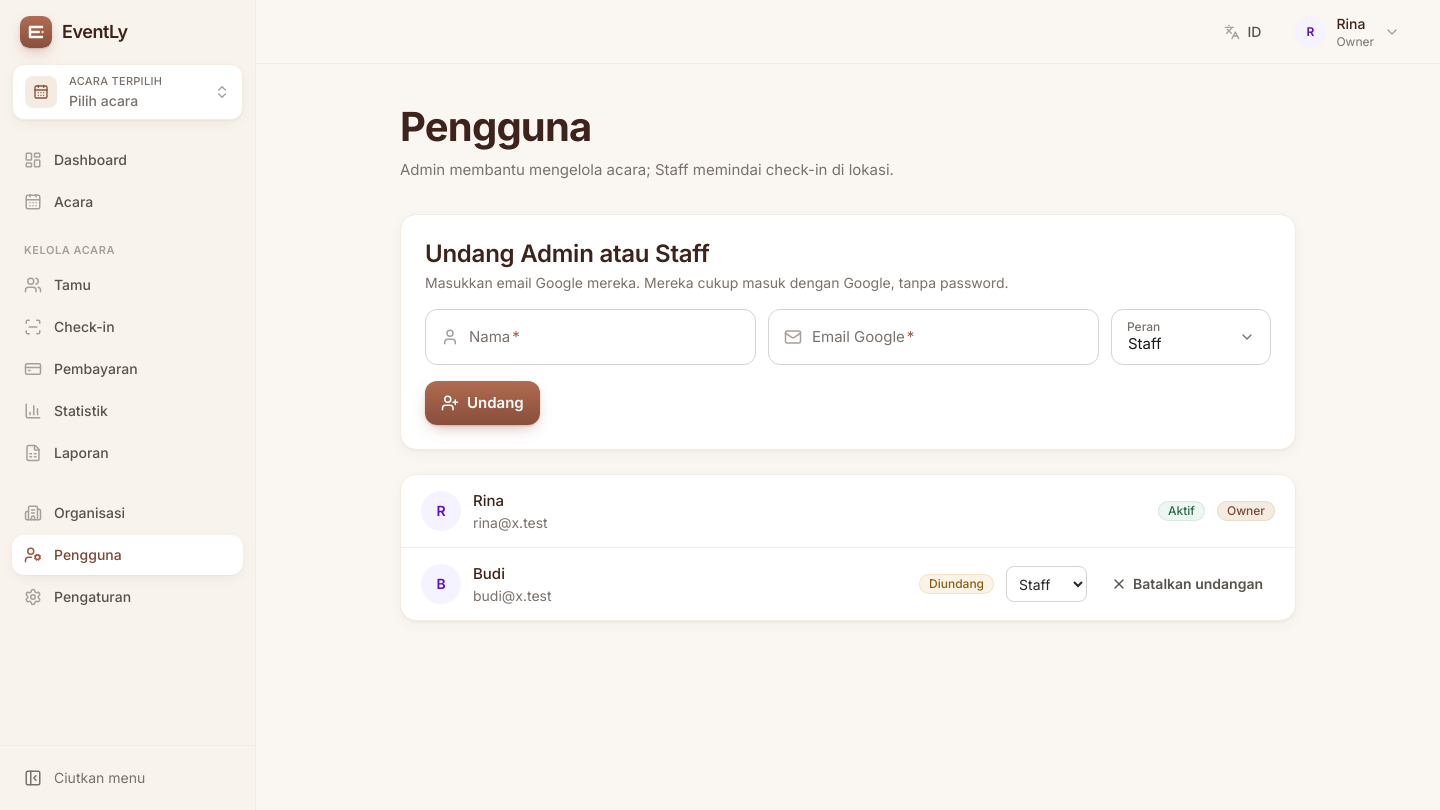
Test case: UsersPage › explains when the email is already registered
Type "Sari" into the field labelled "Nama" at (590, 337), box [425, 309, 756, 365]
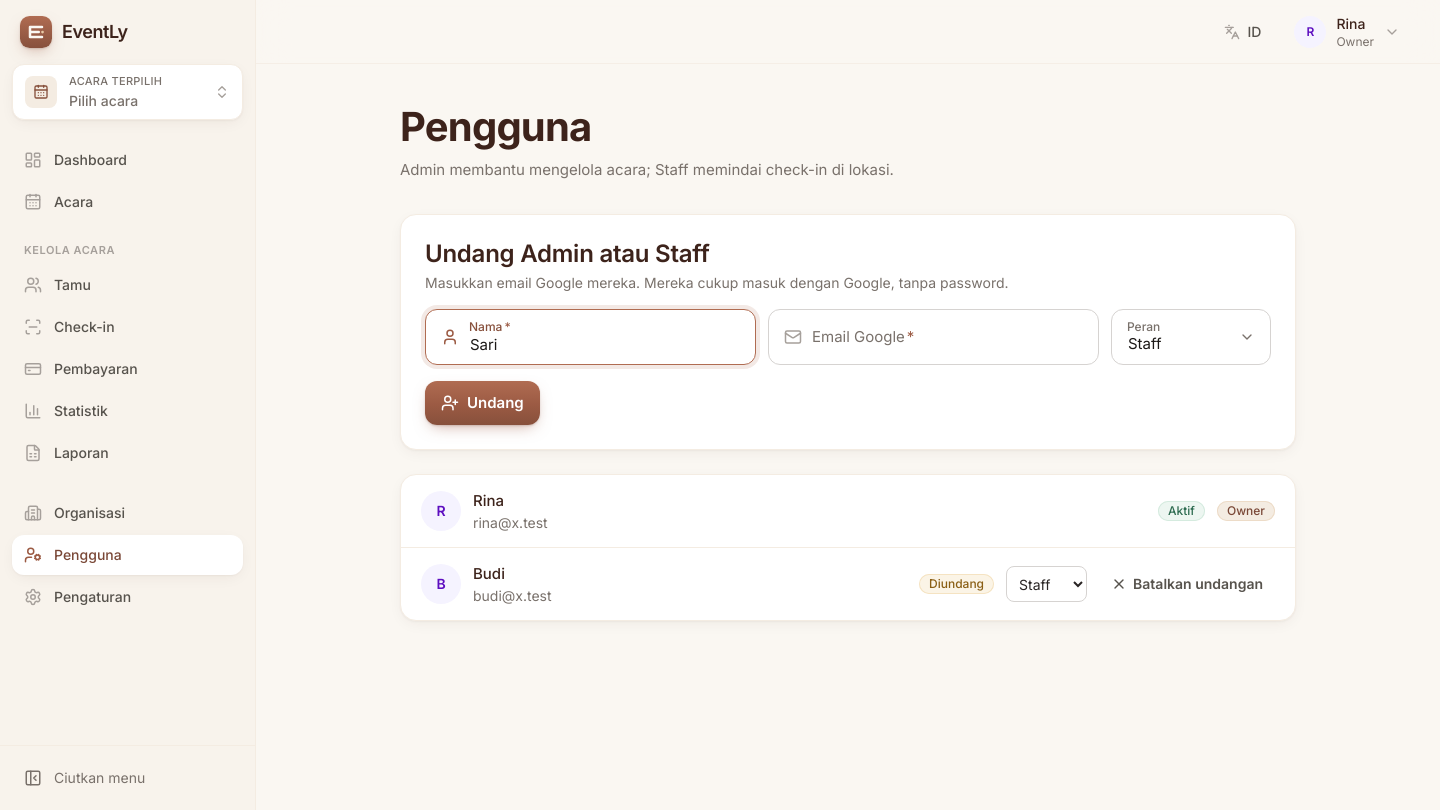
Type "taken@gmail.test" into the field labelled "Email Google" at (934, 337), box [768, 309, 1099, 365]
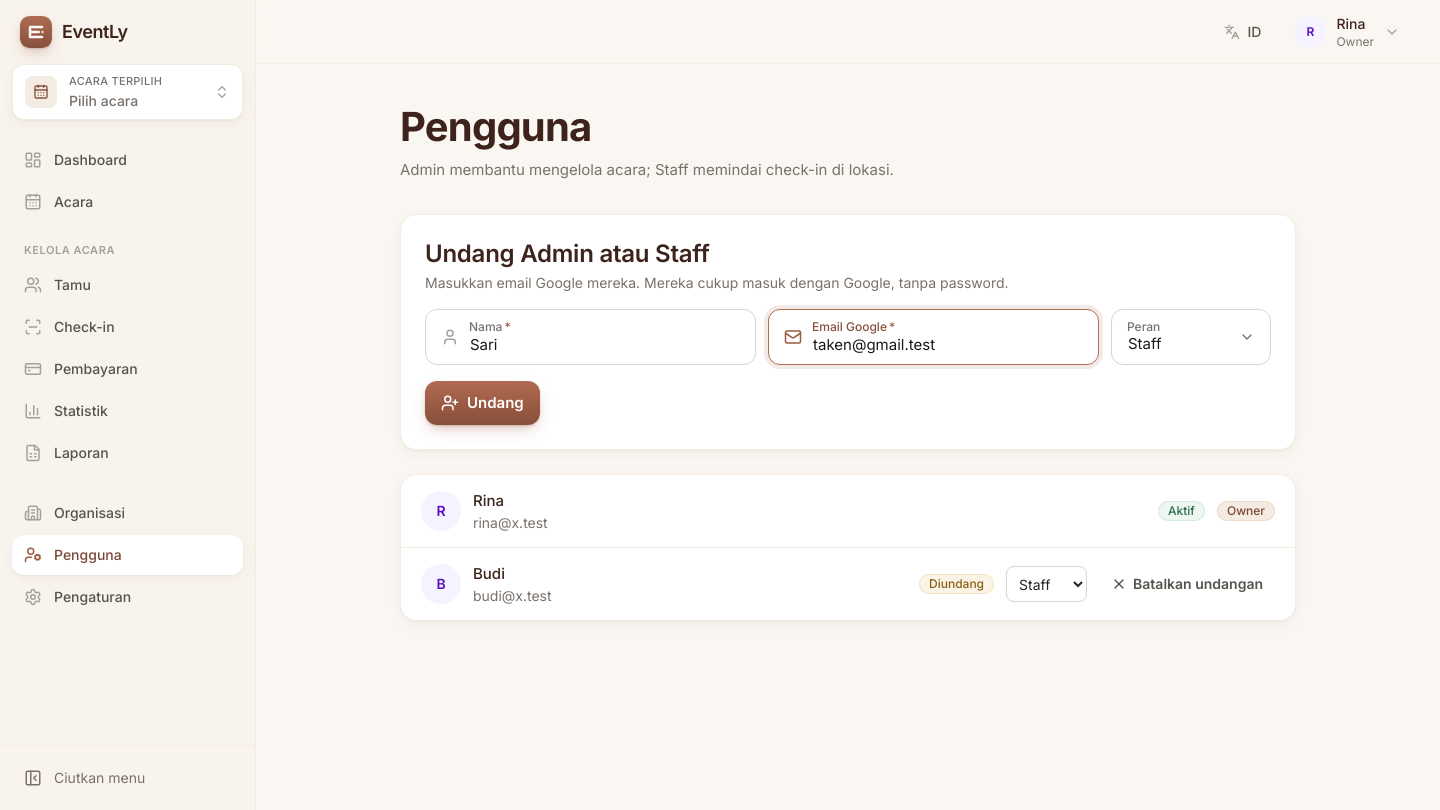
Click the button "Undang" at (482, 403), box [425, 381, 540, 425]
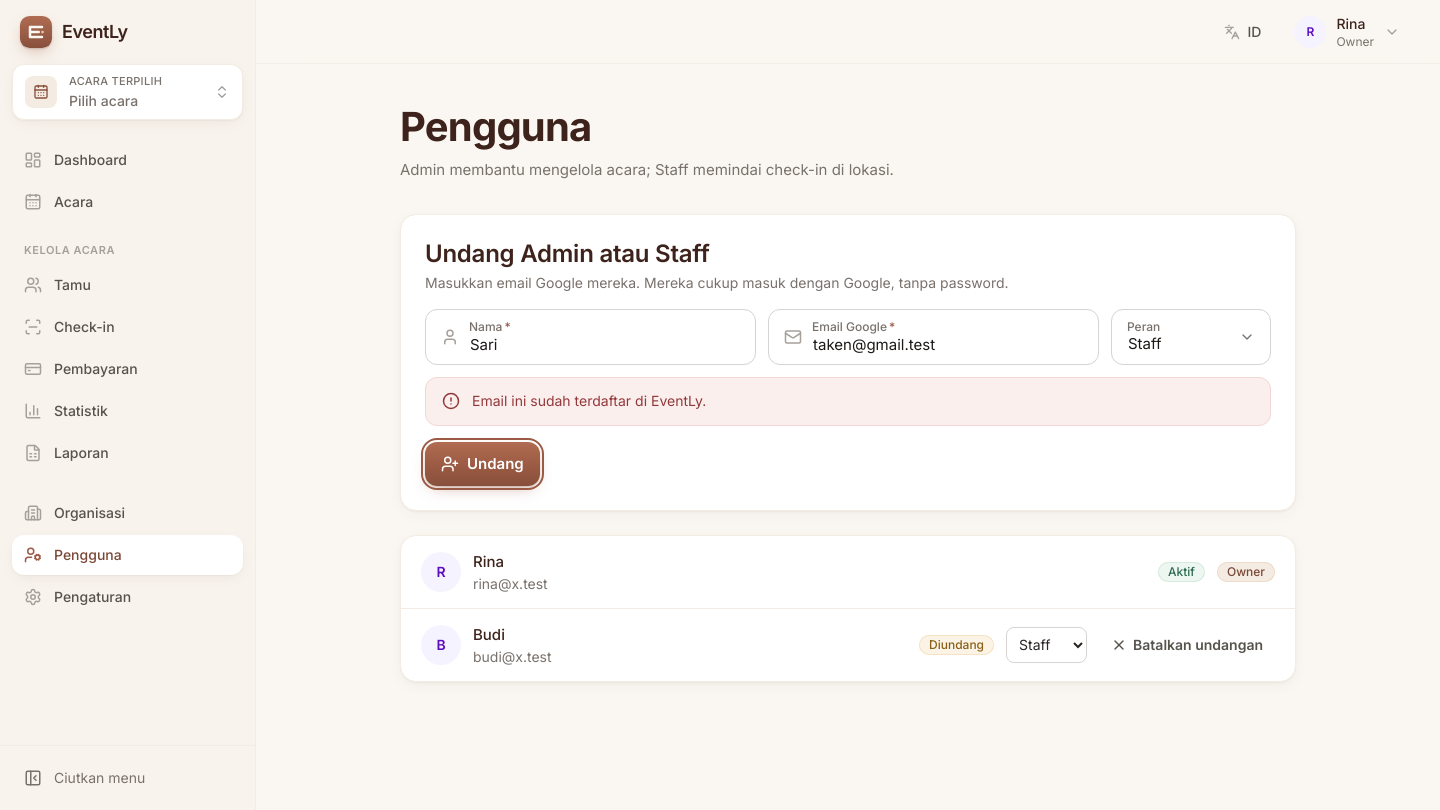
Check: the message reads "Email ini sudah terdaftar di EventLy.", box [472, 392, 706, 409]
